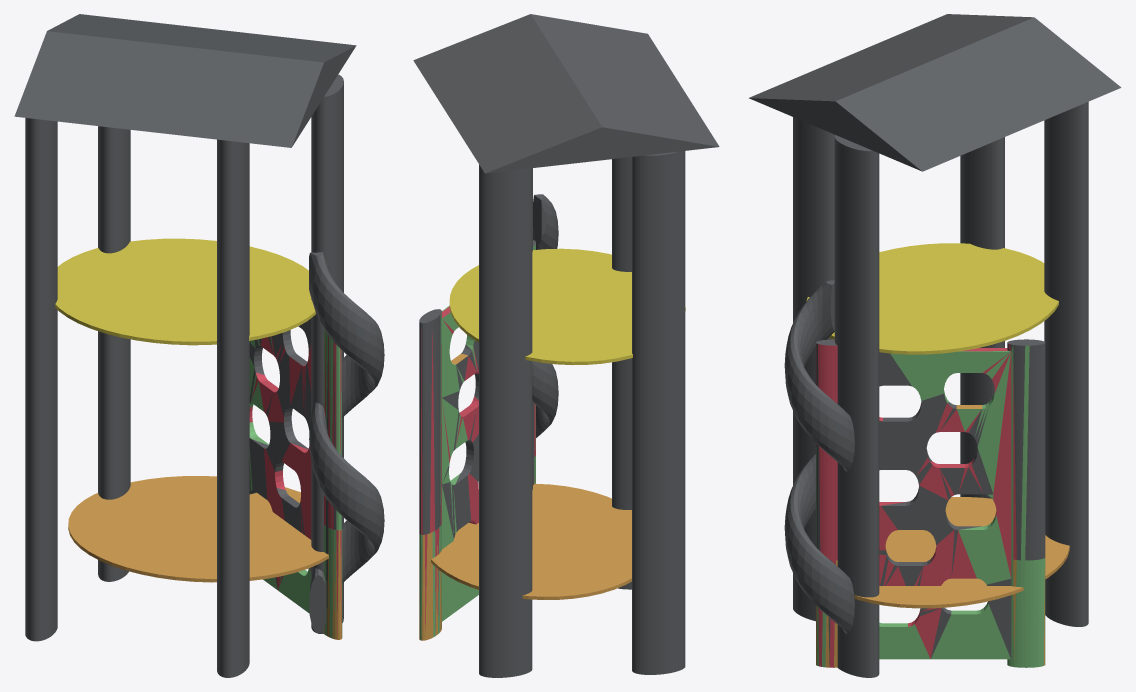
The model's file is Playground.glb.
3 renders of one model, left to right at view 1: azimuth 30°, elevation 25°; view 2: azimuth 150°, elevation 25°; view 3: azimuth 270°, elevation 25°, orthographic. The views are drawn at different scales.
Parts seen in each view (by area): view 1: Mesh_Mesh_head_geo.001_lambert2SG.001; view 2: Mesh_Mesh_head_geo.001_lambert2SG.001; view 3: Mesh_Mesh_head_geo.001_lambert2SG.001.
Part boxes in pixels (x1,y1,x2,y2): Mesh_Mesh_head_geo.001_lambert2SG.001: [14, 14, 384, 677]; Mesh_Mesh_head_geo.001_lambert2SG.001: [413, 14, 719, 677]; Mesh_Mesh_head_geo.001_lambert2SG.001: [749, 14, 1121, 677].
Bounding box in the file's own units: 101 × 167 × 101.
